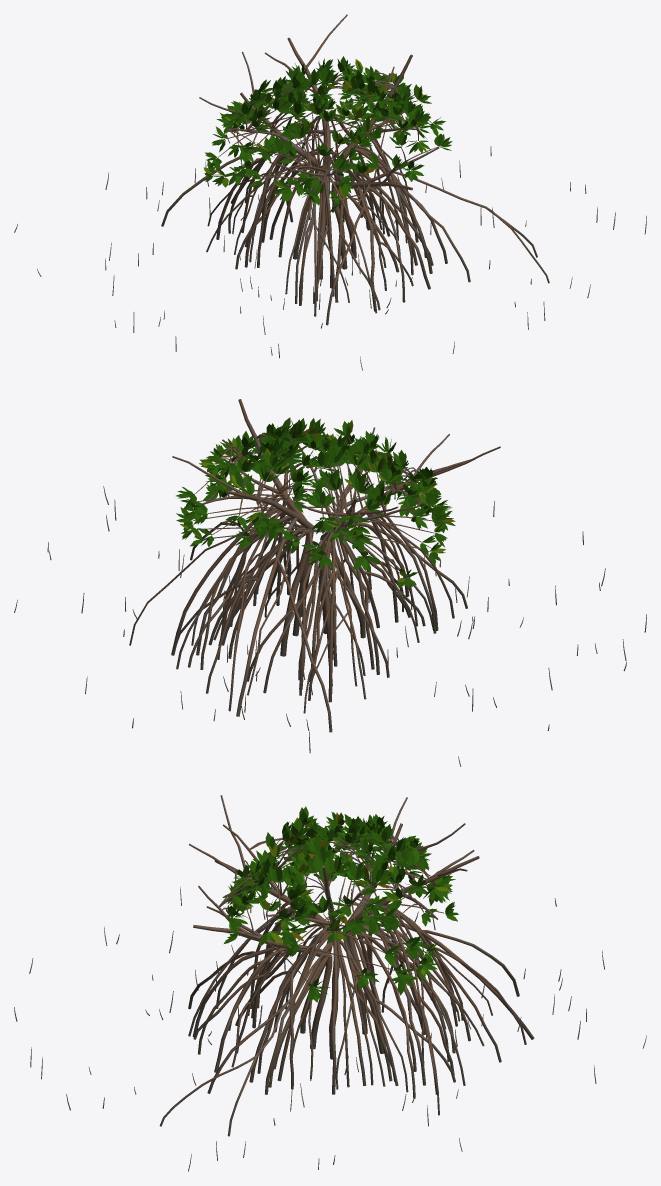
The model's file is RedMangrove_02_Young.fbx.
3 views of the same model, one above another, from view 1: azimuth 30°, elevation 25°; view 2: azimuth 150°, elevation 25°; view 3: azimuth 270°, elevation 25° (orthographic). The views are drawn at different scales.
Visible parts, largest first — view 1: RedMangrove_02_Young_LOD0; view 2: RedMangrove_02_Young_LOD0; view 3: RedMangrove_02_Young_LOD0.
Boxes of the visible parts, left/top/right/bottom form: RedMangrove_02_Young_LOD0: left=14, top=14, right=646, bottom=370; RedMangrove_02_Young_LOD0: left=14, top=399, right=646, bottom=766; RedMangrove_02_Young_LOD0: left=14, top=795, right=646, bottom=1171.
Size of what is drawn, in the model's own units: 7.76 by 2.86 by 7.34.
